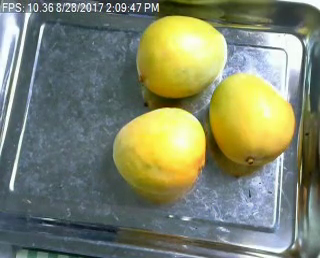Mango: (110, 107, 203, 192), (136, 13, 227, 99), (212, 75, 296, 164)
